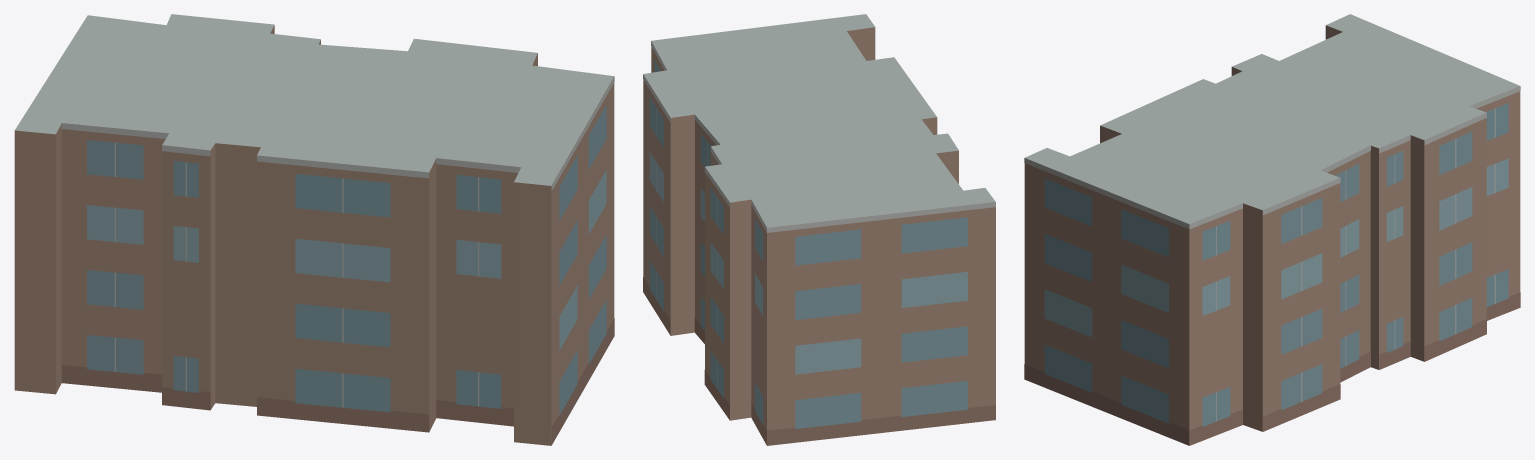
Rendered from survey-upis-32772402.glb.
3 renders of one model, left to right at view 1: azimuth 30°, elevation 25°; view 2: azimuth 150°, elevation 25°; view 3: azimuth 270°, elevation 25°, orthographic. The views are drawn at different scales.
Parts seen in each view (by area): view 1: survey-upis-32772402.tmp; view 2: survey-upis-32772402.tmp; view 3: survey-upis-32772402.tmp.
Part boxes in pixels (x1,y1,x2,y2): survey-upis-32772402.tmp: [14, 14, 614, 445]; survey-upis-32772402.tmp: [643, 14, 995, 445]; survey-upis-32772402.tmp: [1024, 14, 1520, 445].
Bounding box in the file's own units: 21.37 × 10.5 × 21.3.
